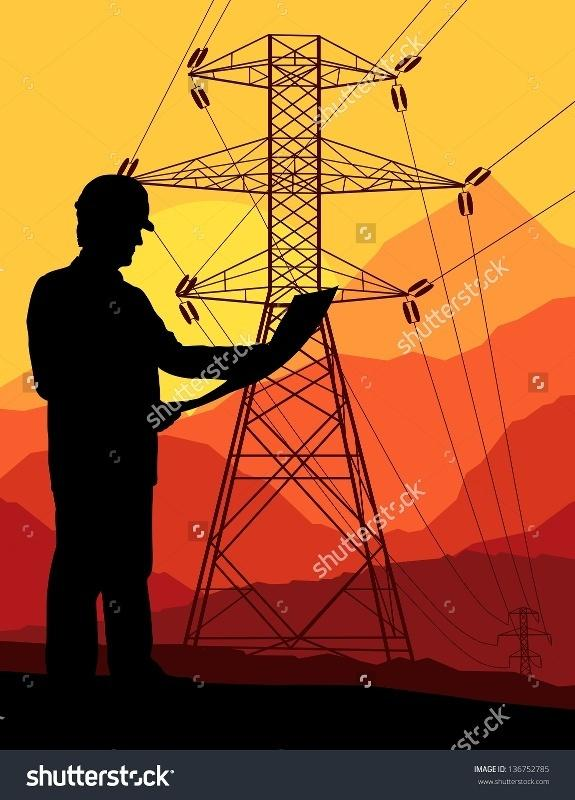power_tower: (177, 27, 442, 664), (493, 593, 551, 677)
